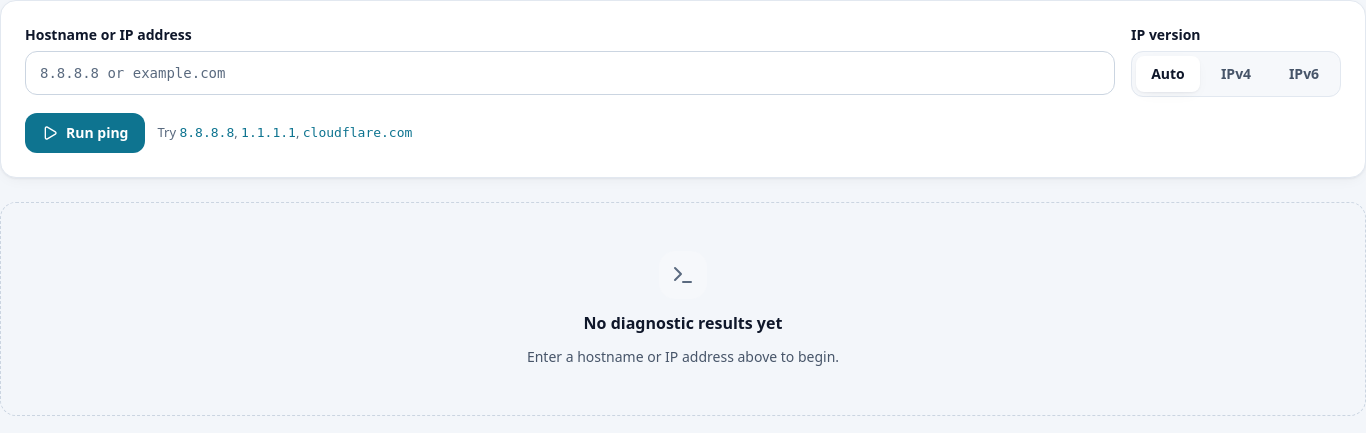
DiagnosticRunner › uses distinct friendly copy for busy
The image size is (1366, 433).
Type "8.8.8.8" into the field labelled "Hostname or IP address" at (570, 73), box [25,51,1115,95]
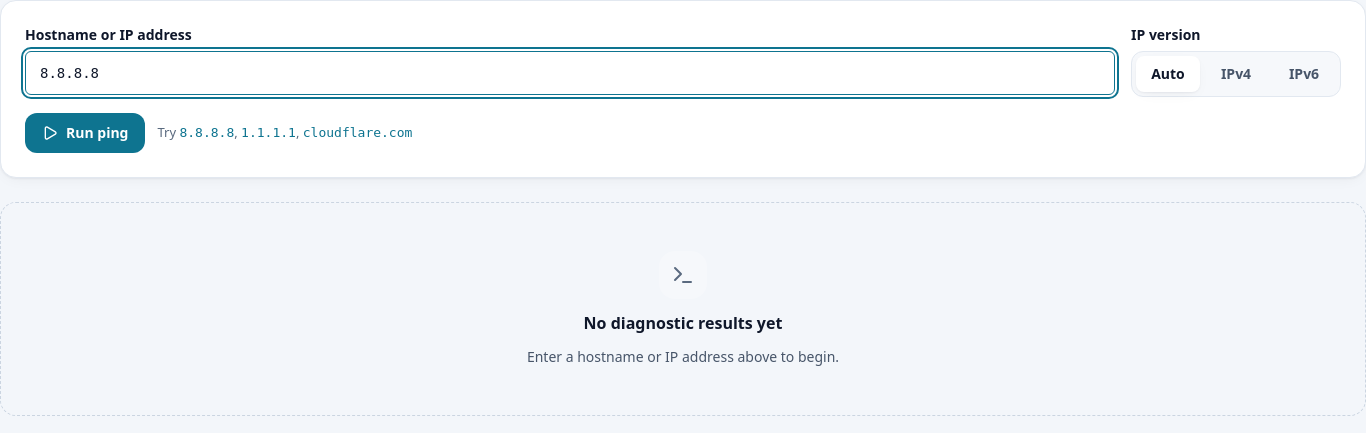
Click the button "Run ping" at (85, 133), box [25,113,146,153]
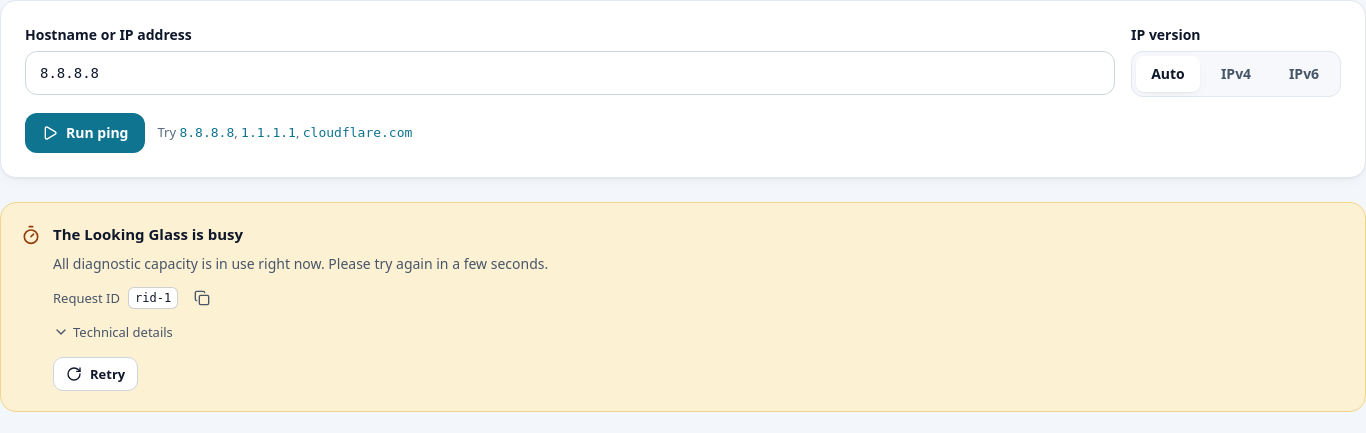
expect the message shows "The Looking Glass is busy": met, box [53,224,243,244]
